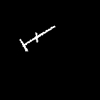double_crochet: (20, 26, 54, 50)
